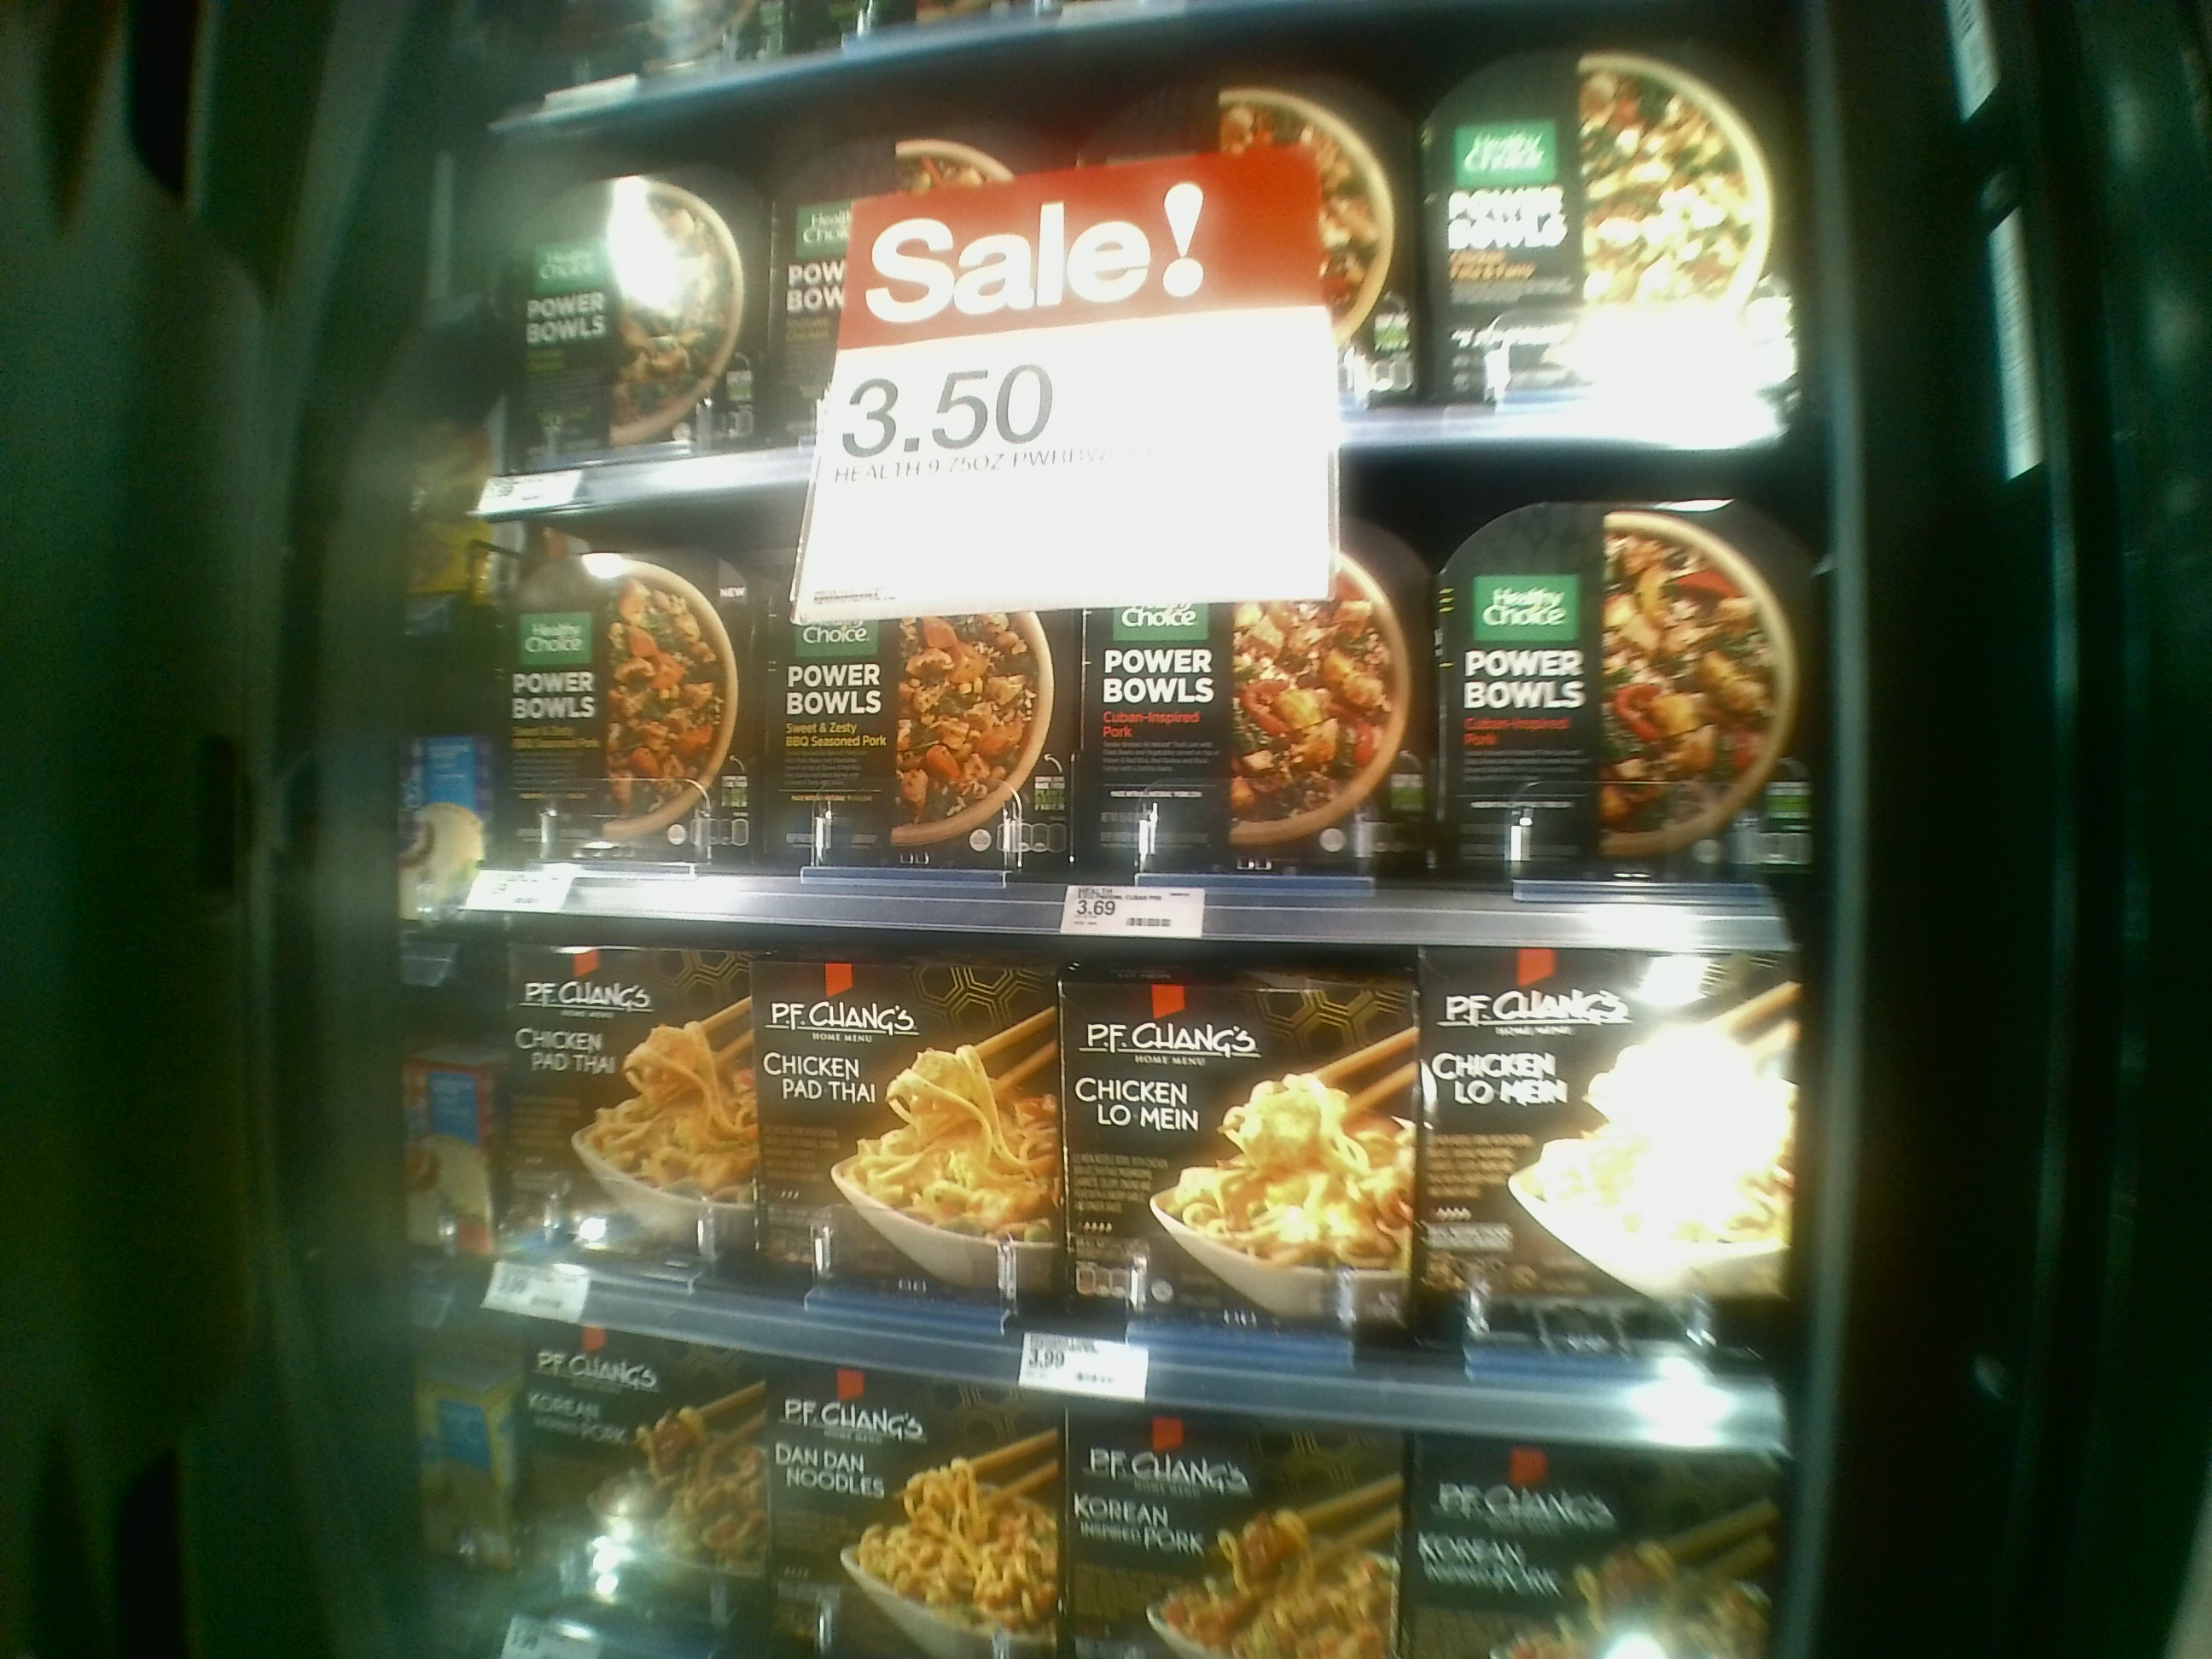shelf: (475, 889, 1813, 1436)
